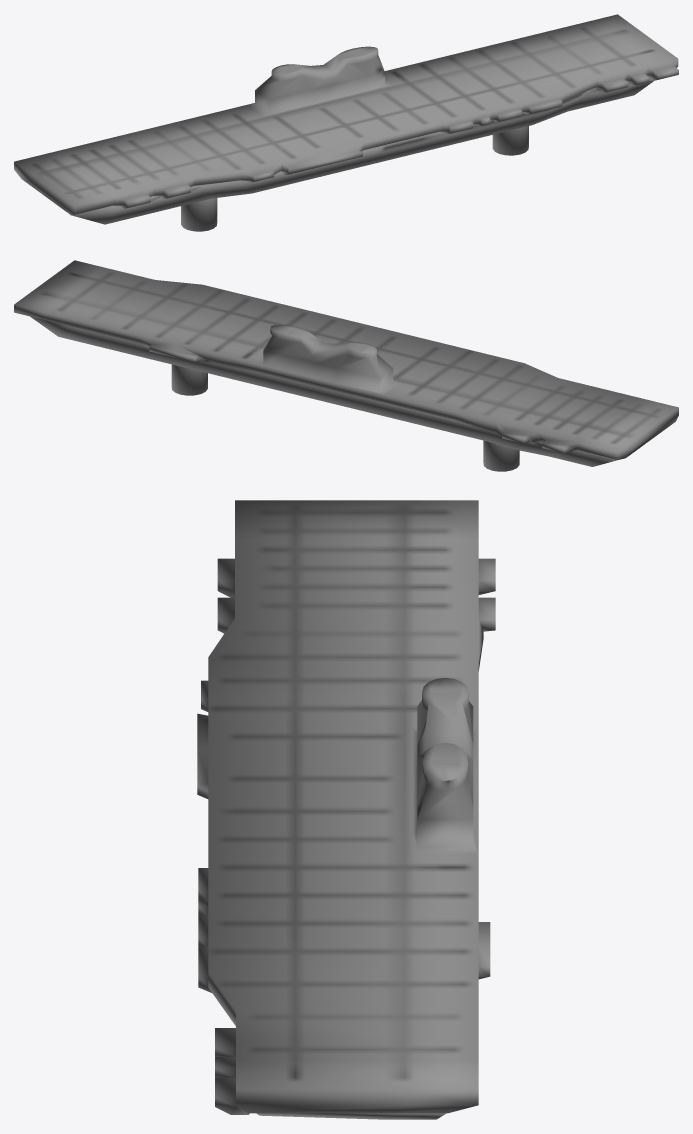
The model's file is Battleship_Carrier.fbx.
The picture shows the model from 3 angles, top to bottom: view 1: azimuth 30°, elevation 25°; view 2: azimuth 150°, elevation 25°; view 3: azimuth 270°, elevation 25°; orthographic projection. The views are drawn at different scales.
Visible parts, largest first — view 1: Carrier; view 2: Carrier; view 3: Carrier.
Boxes of the visible parts, x1,y1,x2,y2 form: Carrier: (14,14,678,231); Carrier: (14,260,678,471); Carrier: (197,500,495,1119).
Size of the model in its own units: 0.0592 by 0.0101 by 0.0127.
